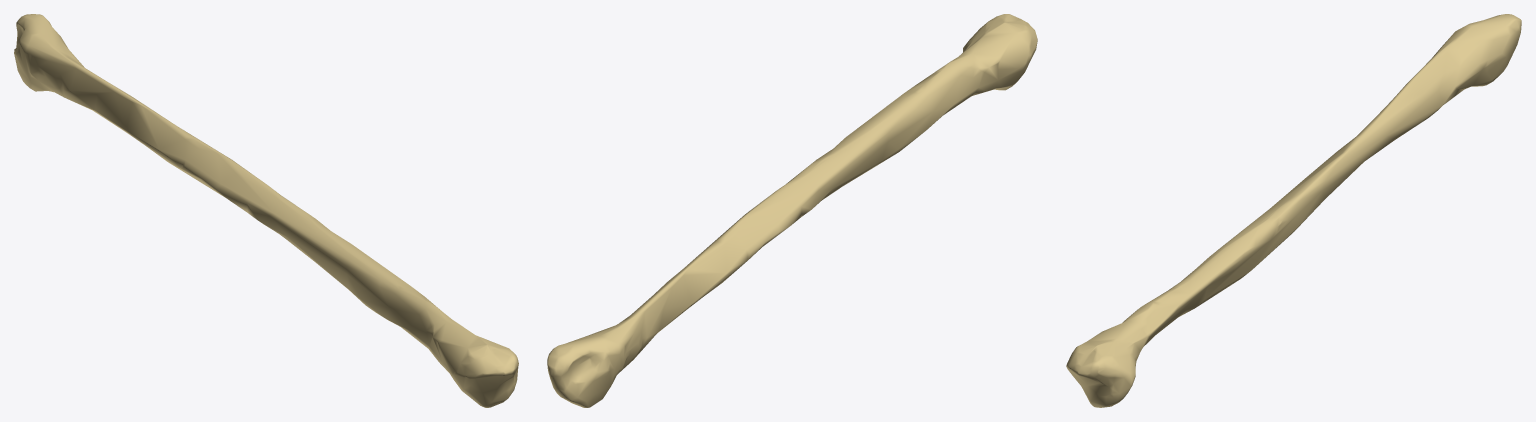
3 views of the same model, side by side, from view 1: azimuth 30°, elevation 25°; view 2: azimuth 150°, elevation 25°; view 3: azimuth 330°, elevation 25° (orthographic). The views are drawn at different scales.
Parts seen in each view (by area): view 1: 左侧腓骨; view 2: 左侧腓骨; view 3: 左侧腓骨.
Boxes of the visible parts, <box> form: 左侧腓骨: <box>14,14,518,407</box>; 左侧腓骨: <box>547,14,1037,407</box>; 左侧腓骨: <box>1066,14,1521,407</box>.
Bounding box in the file's own units: 0.0534 × 0.0485 × 0.5341.
